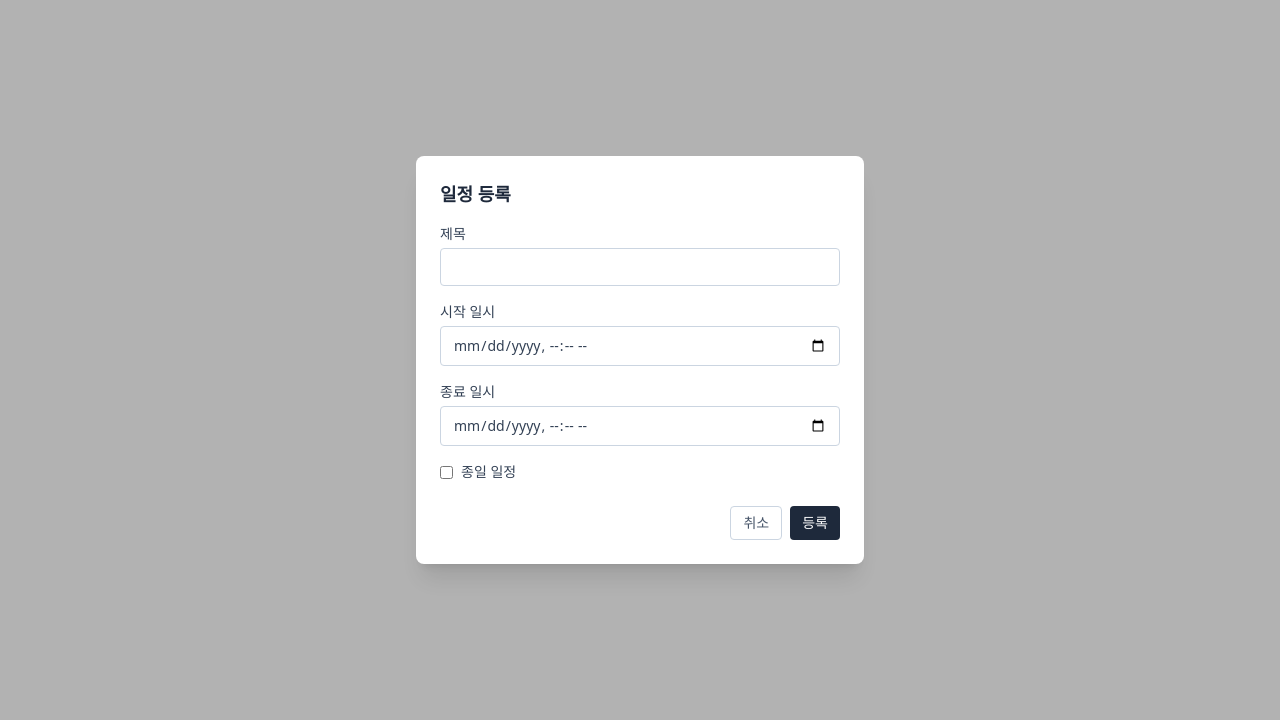
ScheduleModal (FE-08 / BR-06/07/08) › start==end 클라이언트 검증 거부(요청 안 함)
Step 1. Type "회의" into the field labelled "제목" → (640, 267), box [440,248,840,286]
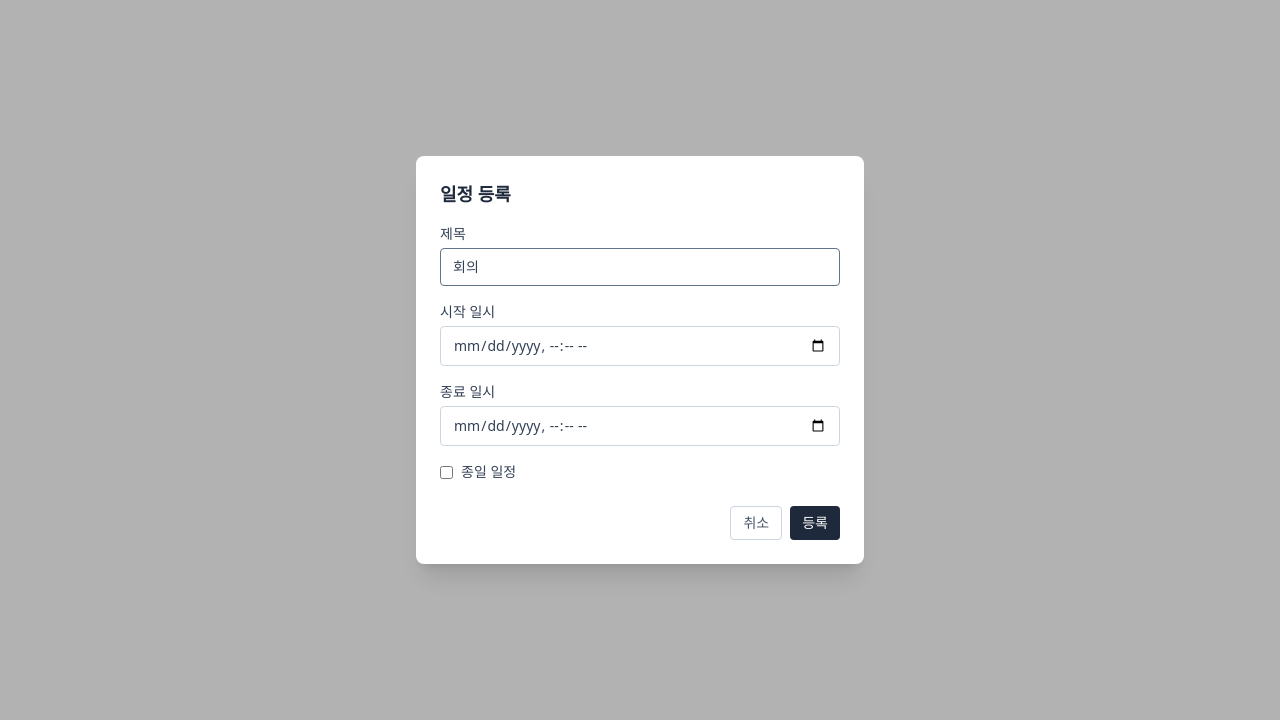
Step 2. Type "2026-06-05T14:00" into the field labelled "시작 일시" → (640, 346), box [440,326,840,366]
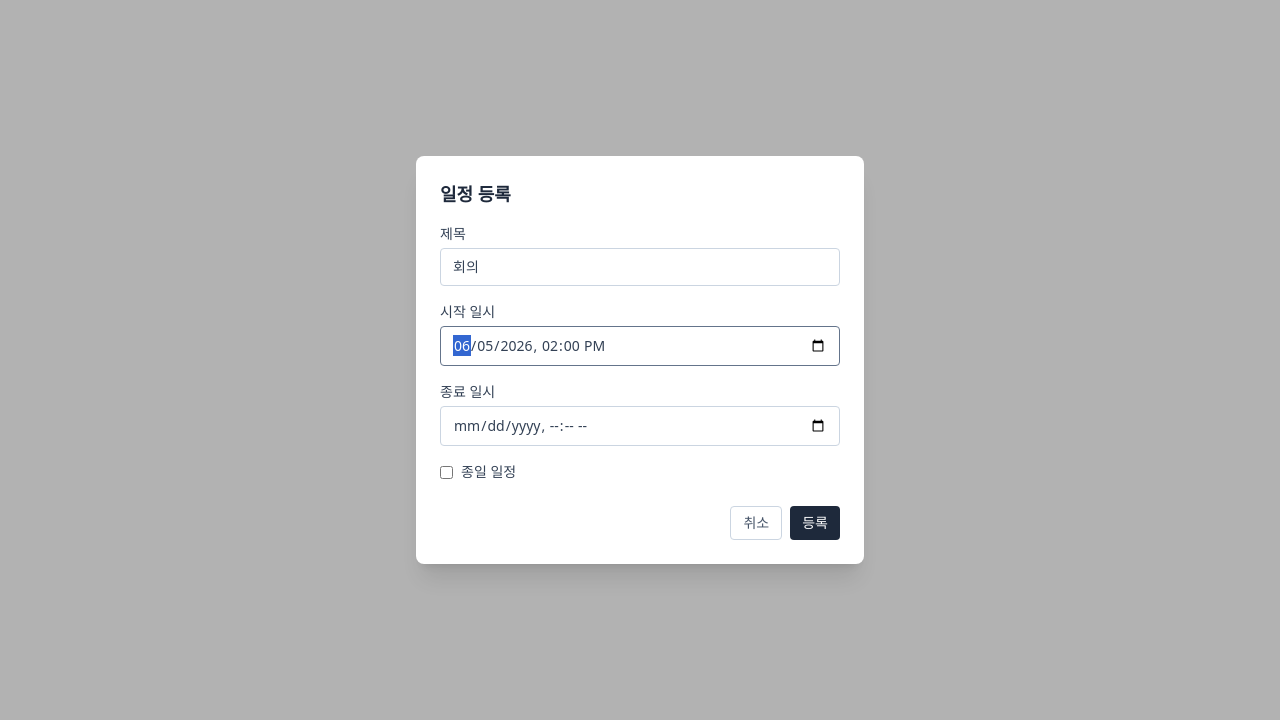
Step 3. Type "2026-06-05T14:00" into the field labelled "종료 일시" → (640, 426), box [440,406,840,446]
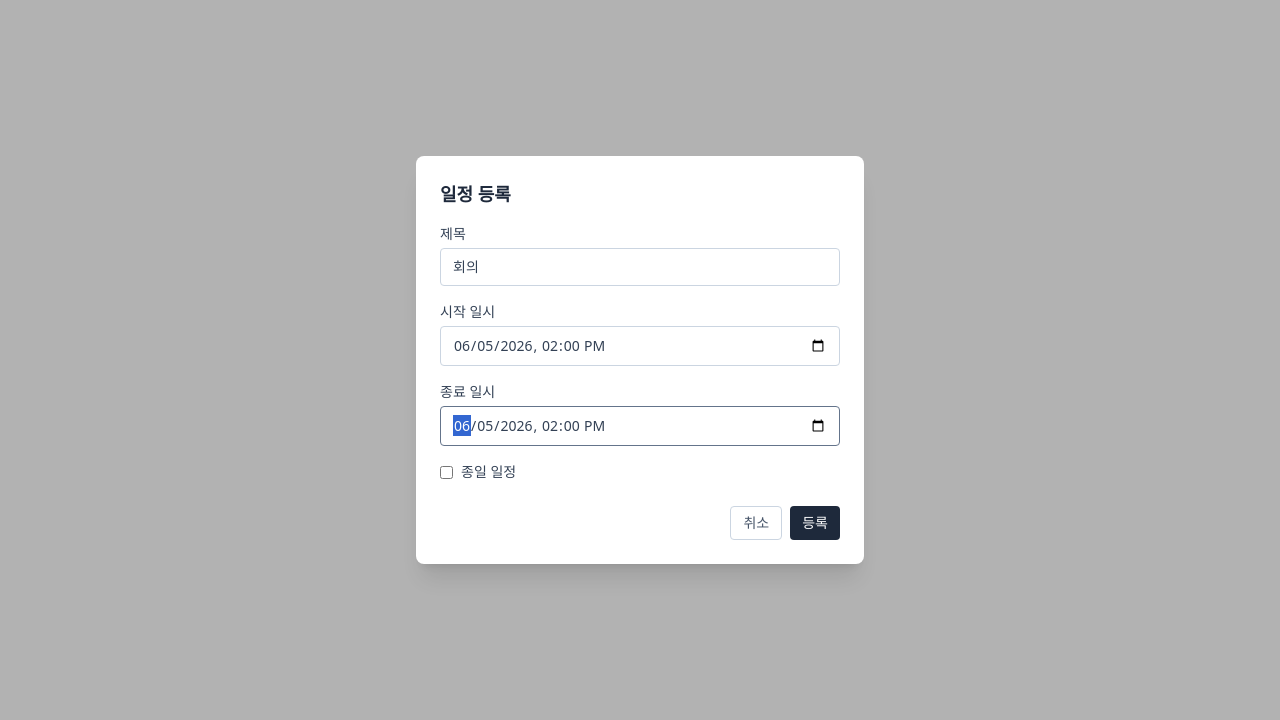
Step 4. Click the button "등록" → (815, 523), box [790,506,840,540]
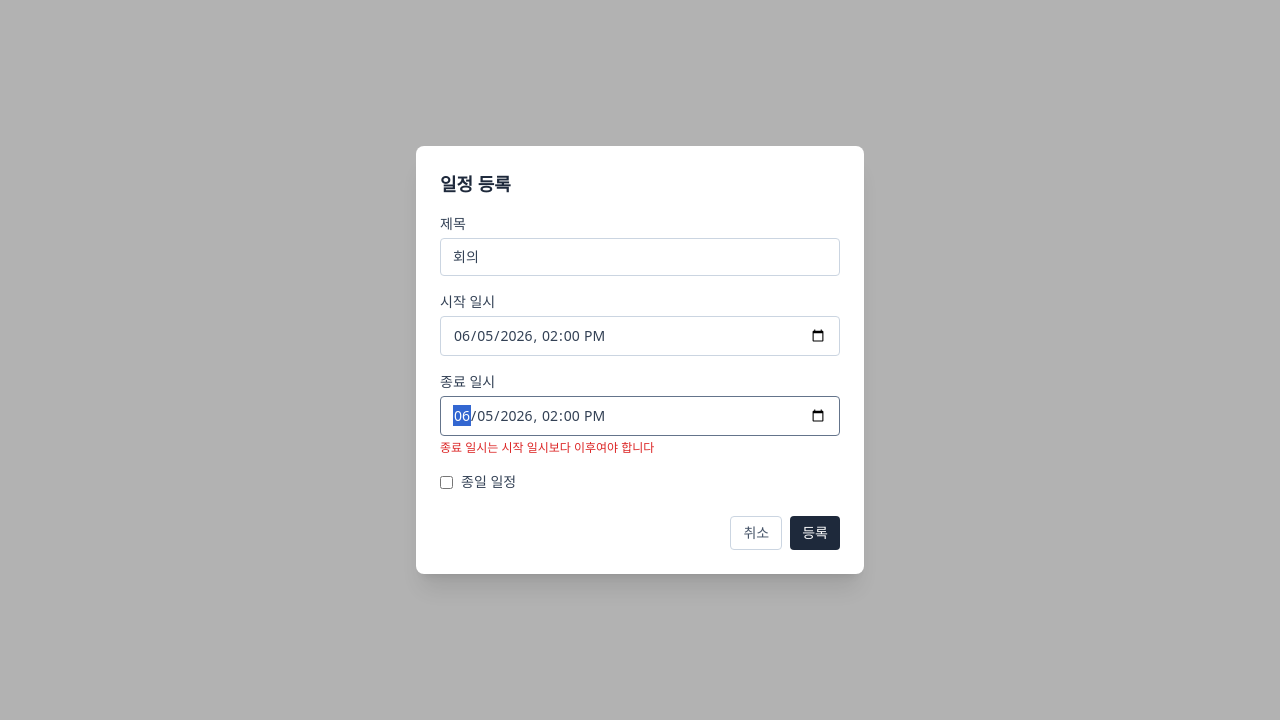
Result: the text "종료 일시는 시작 일시보다 이후여야 합니다" is shown at [440,439,654,456]
